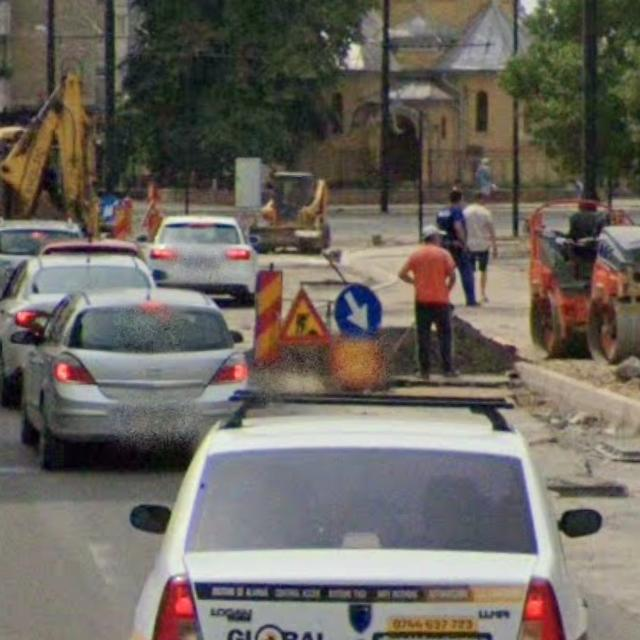mand_pass_right: (334, 285, 382, 339)
warn_construction: (280, 289, 332, 345)
